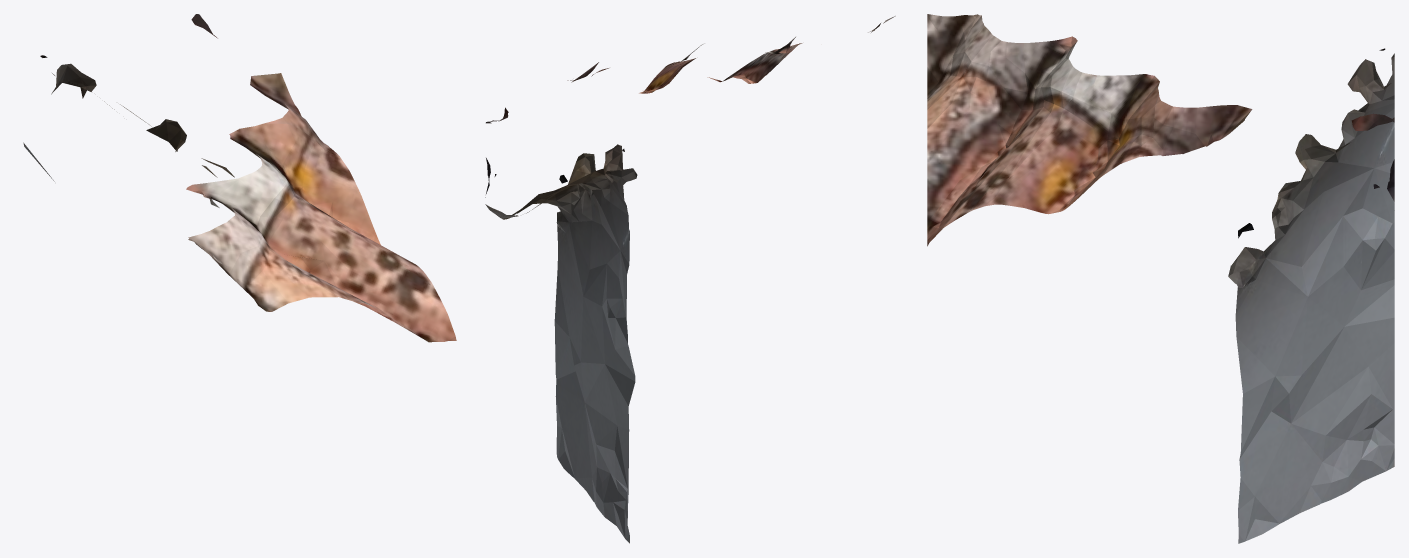
3 views of the same model, side by side, from view 1: azimuth 30°, elevation 25°; view 2: azimuth 150°, elevation 25°; view 3: azimuth 270°, elevation 25° (orthographic). The views are drawn at different scales.
Size of the model in its own units: 0.4519 by 0.8374 by 0.8373.
2 materials, 2 textured.
